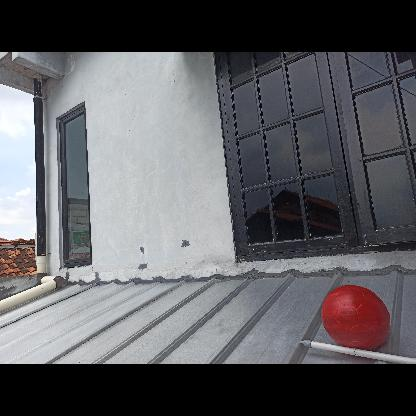red_ball: (319, 283, 389, 353)
